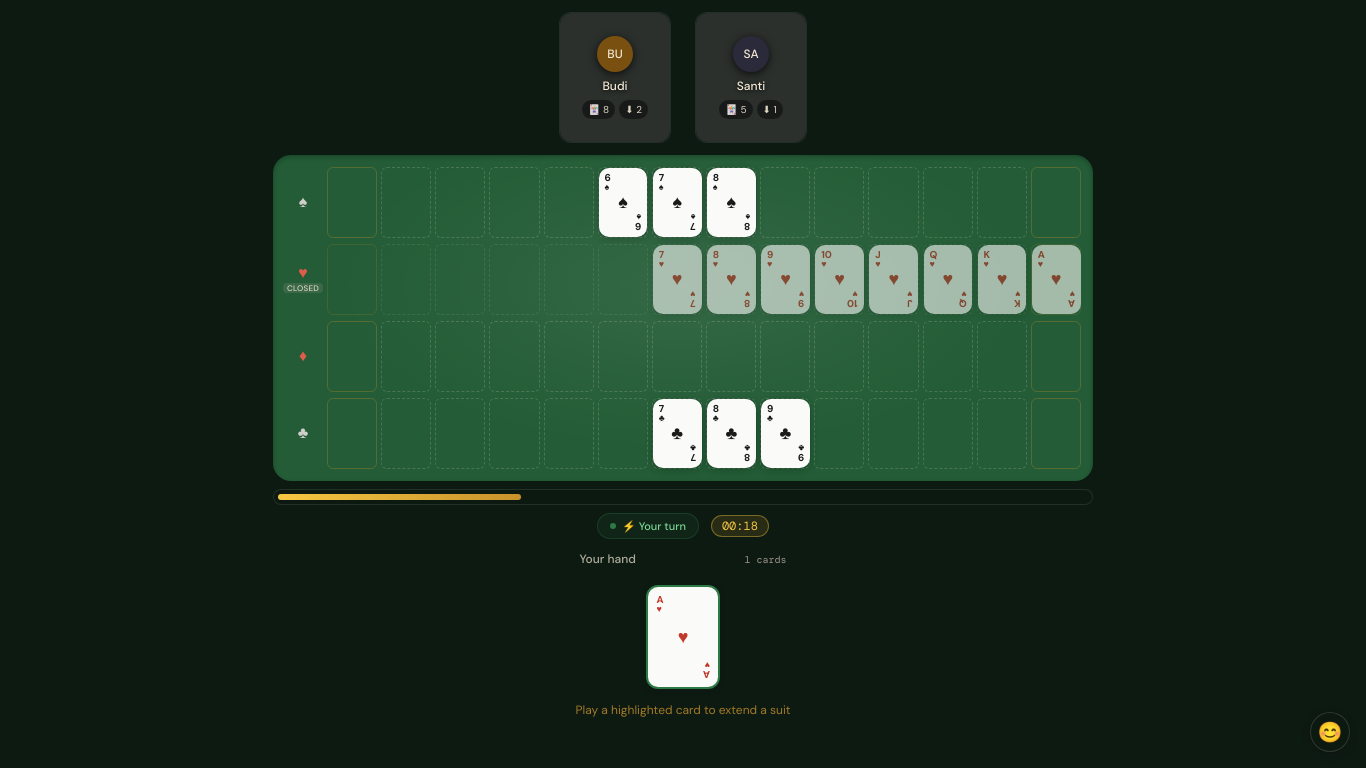
Test case: Escape dismisses the close-suit prompt without playing the Ace
Click the button named "Play A of Hearts" at (683, 637), box [648,587,718,687]
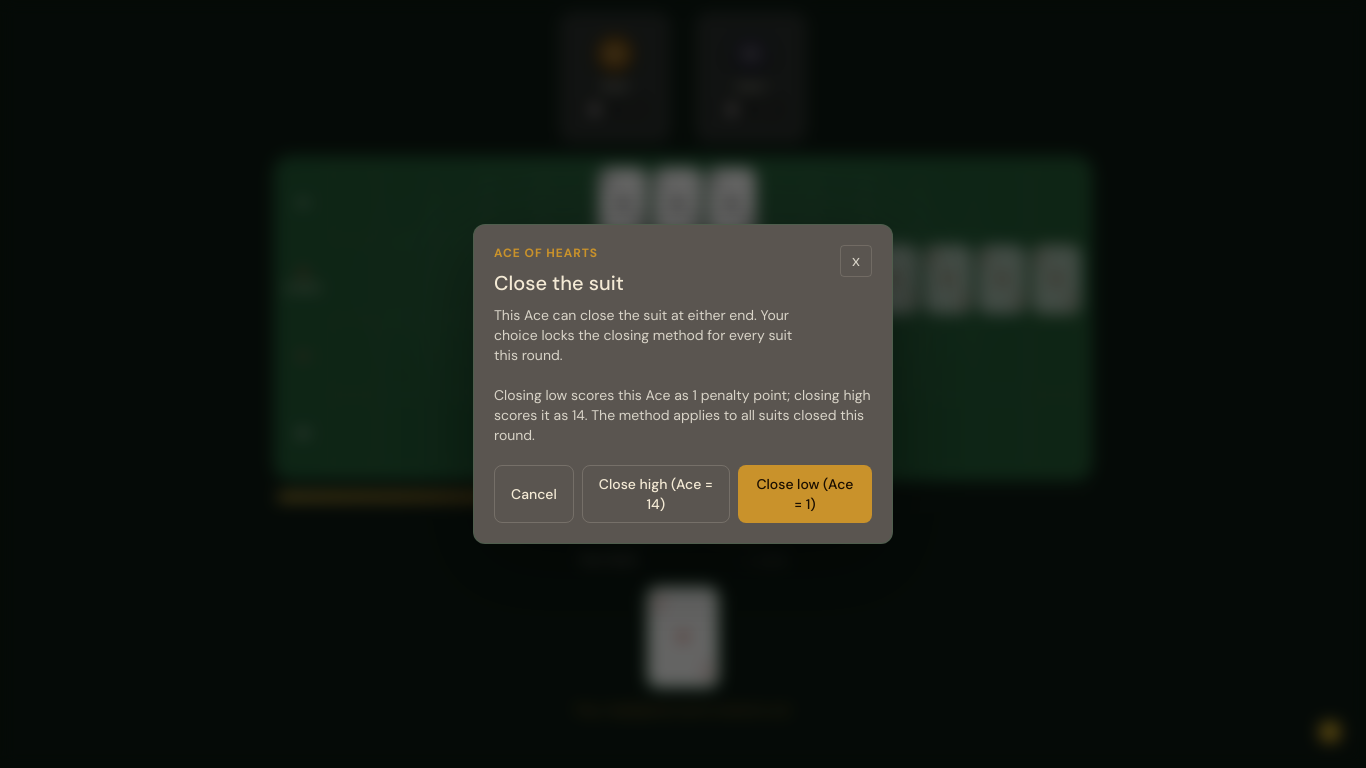
Now the dialog "Close the suit" is shown, box [473,224,893,544]
Press Escape
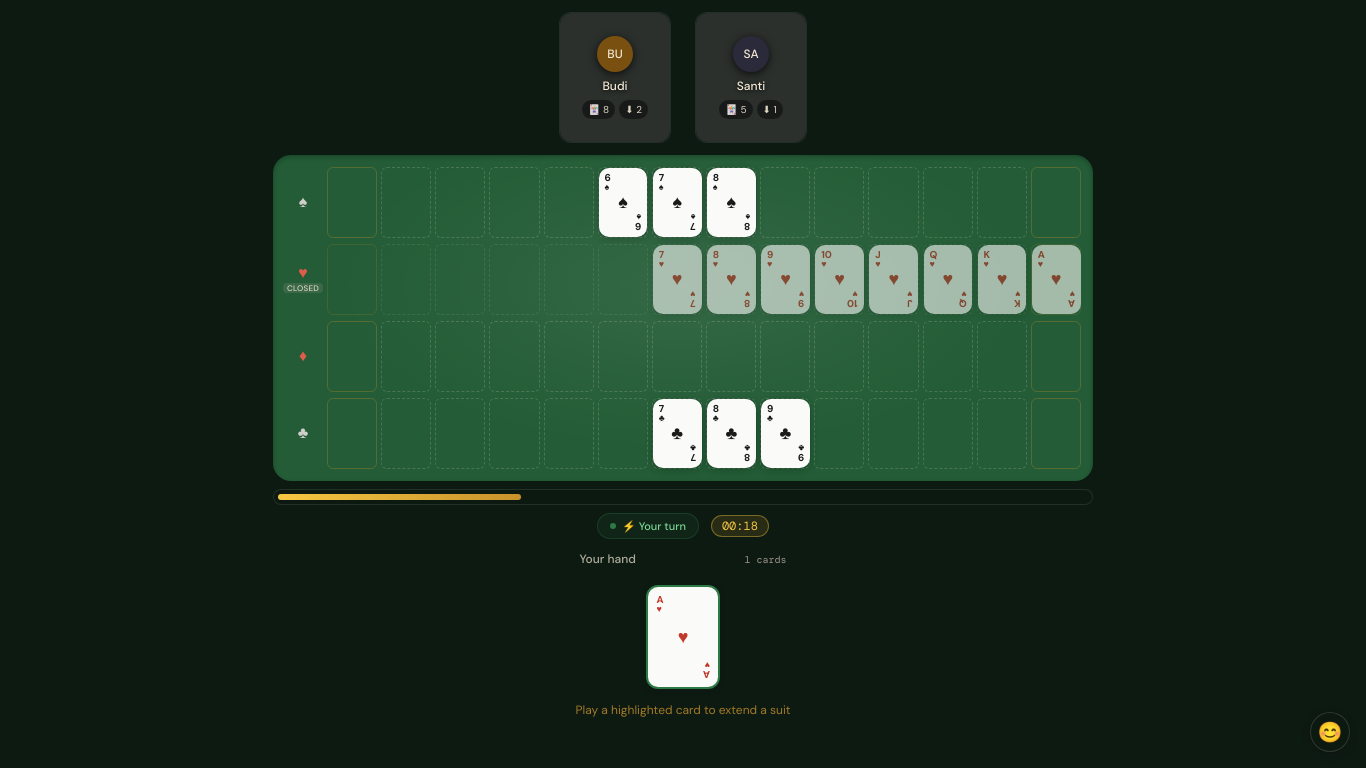
Now the heading "Close the suit" is gone
